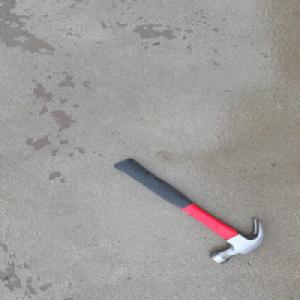Hammer: (108, 156, 261, 263)
